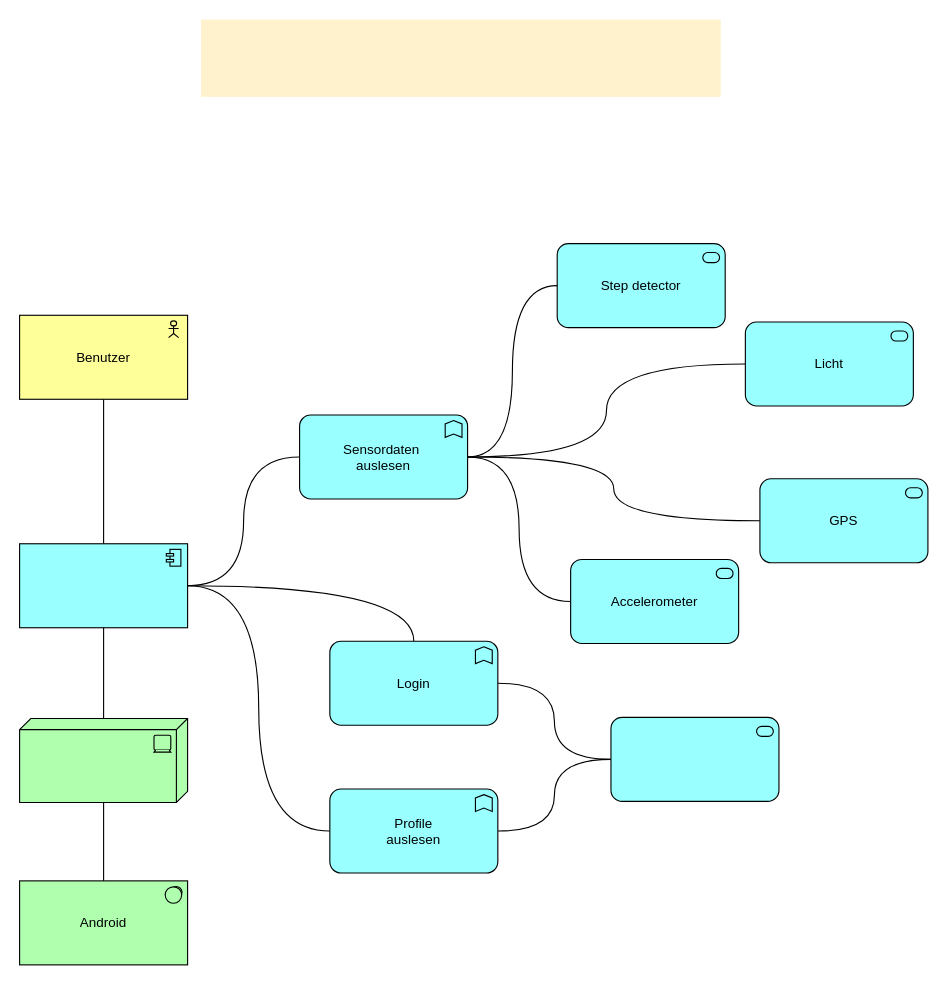
Some shapes in this 948 by 984 pixel diagram are drawn without their labels. Here are the shapes that lost their labels. From the top down, the box of each, then its label:
(200, 19, 720, 96): Step Counter Architektur-Zeichnung
(18, 543, 188, 628): App
(18, 717, 188, 802): Smartphone
(610, 716, 779, 801): Firebase Google SingIn
